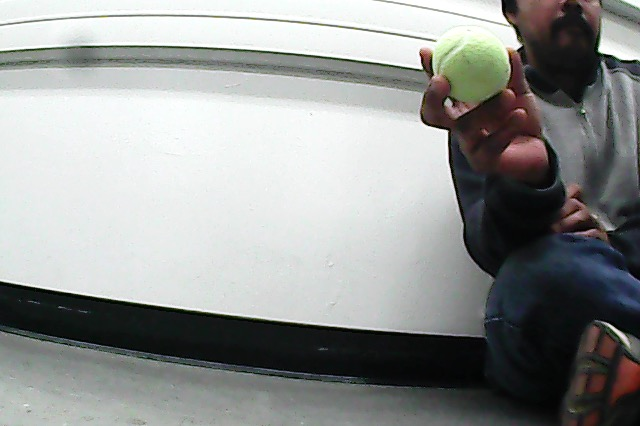ball: (430, 25, 513, 108)
